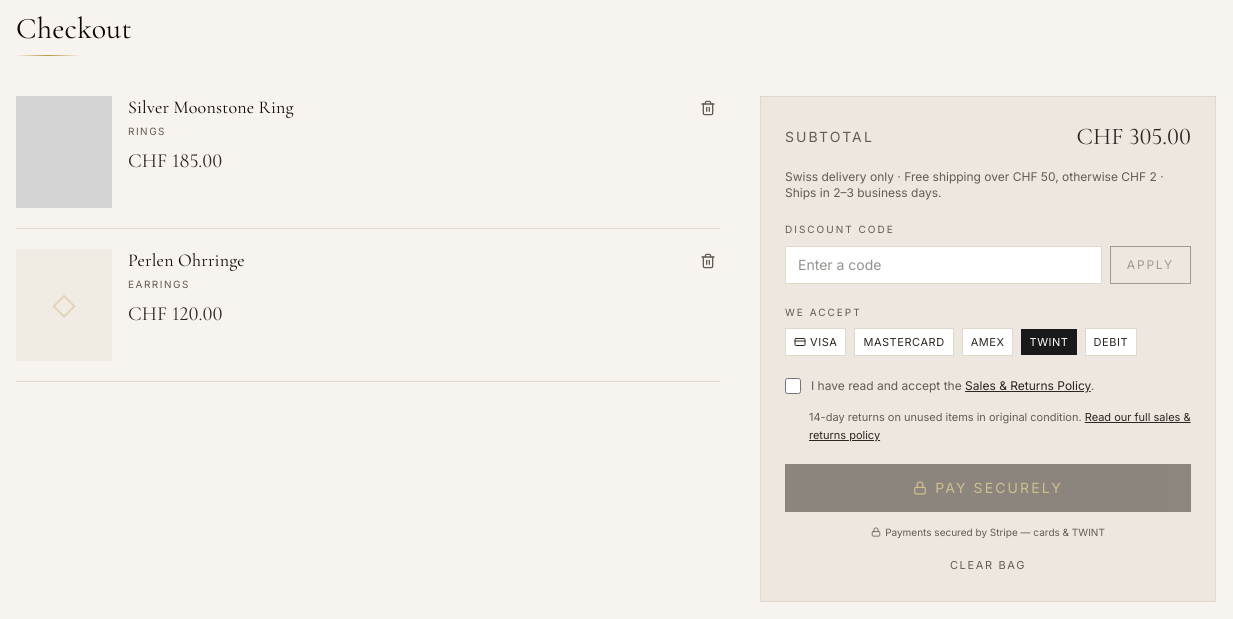
it: Checkout page › removes a single item from the bag
The image size is (1233, 619).
What coordinates should you click on to do the following:
click the button named "Remove" in the row of "Silver Moonstone Ring"
I would click on:
 (708, 108)
Its box is [696,96,720,120].
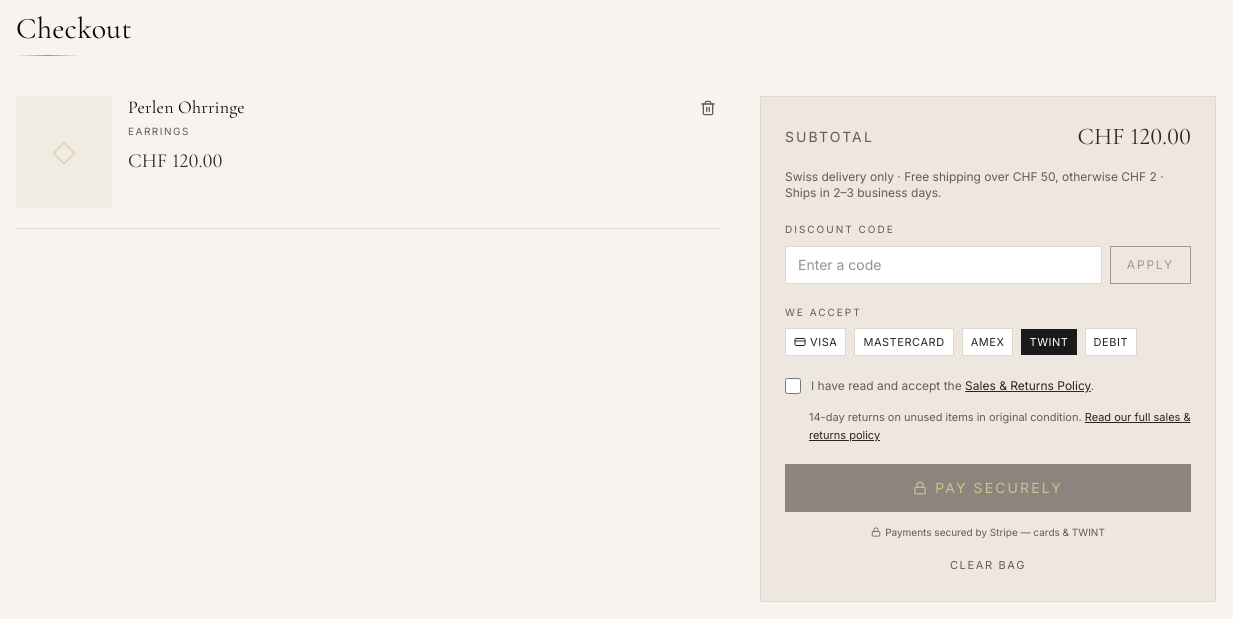
Expected: the heading "Perlen Ohrringe" is shown, [128,96,245,118]
Now the heading "Silver Moonstone Ring" is gone
Now the text "CHF 120.00" is shown 2 times, box [128,149,222,173]; [1078,121,1191,153]
